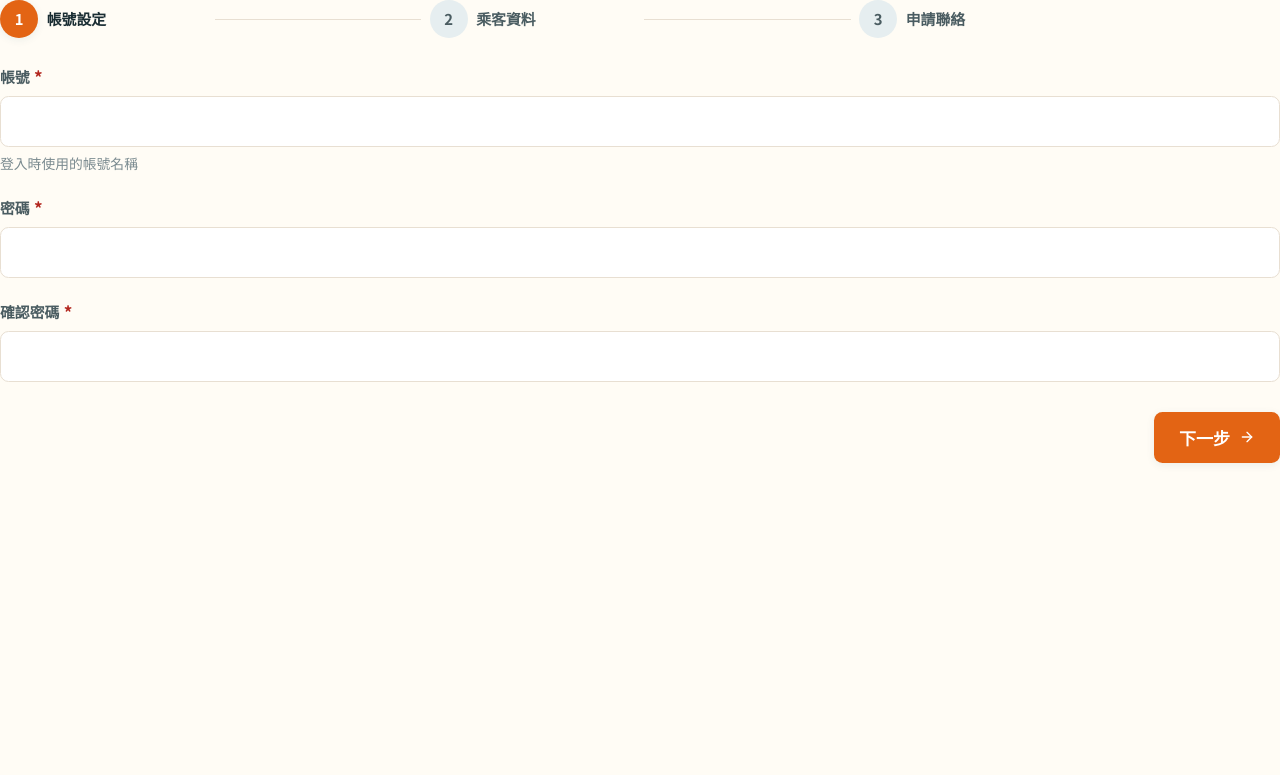
Test case: RegisterForm › advances to step 2 when step 1 is valid
The width and height of the screenshot is (1280, 775).
Type "validuser" into the field labelled "帳號" at [640, 121], box x1=0 y1=96 x2=1279 y2=147
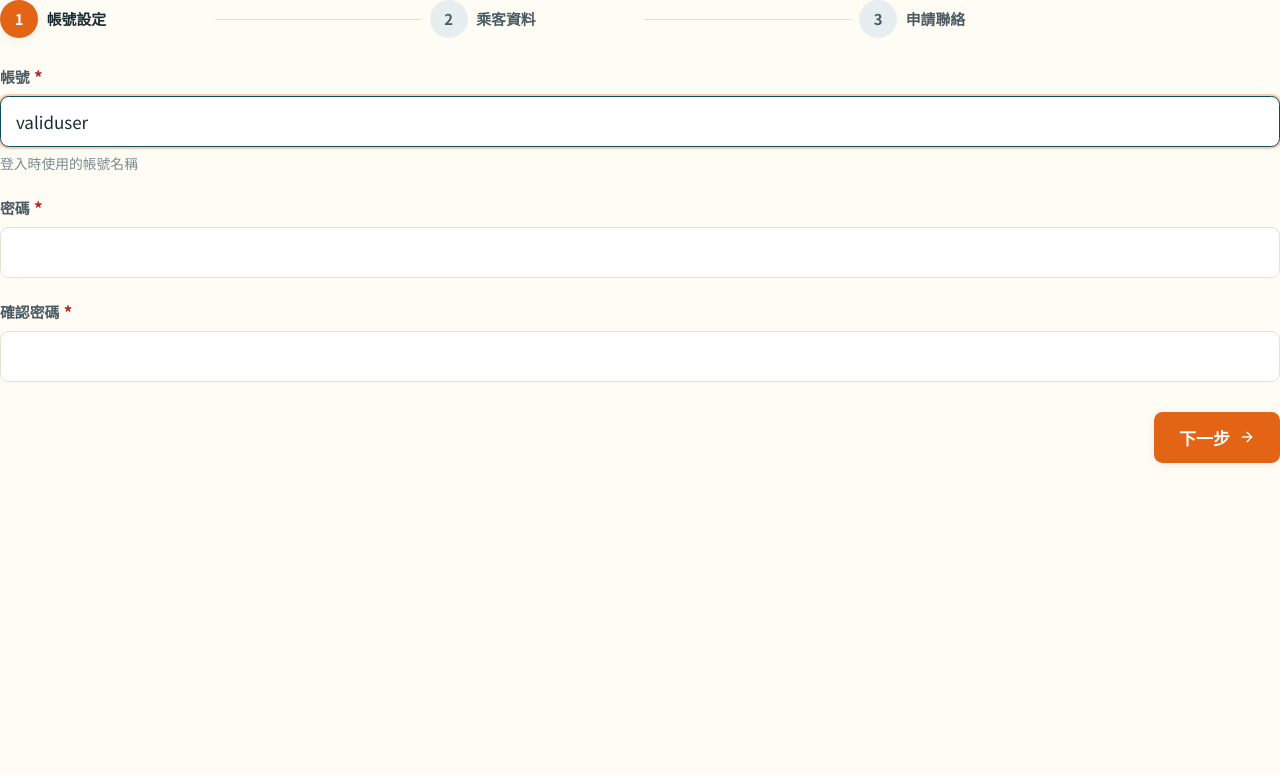
Type "password123" into the password field labelled "密碼" at [640, 252], box x1=0 y1=227 x2=1279 y2=278
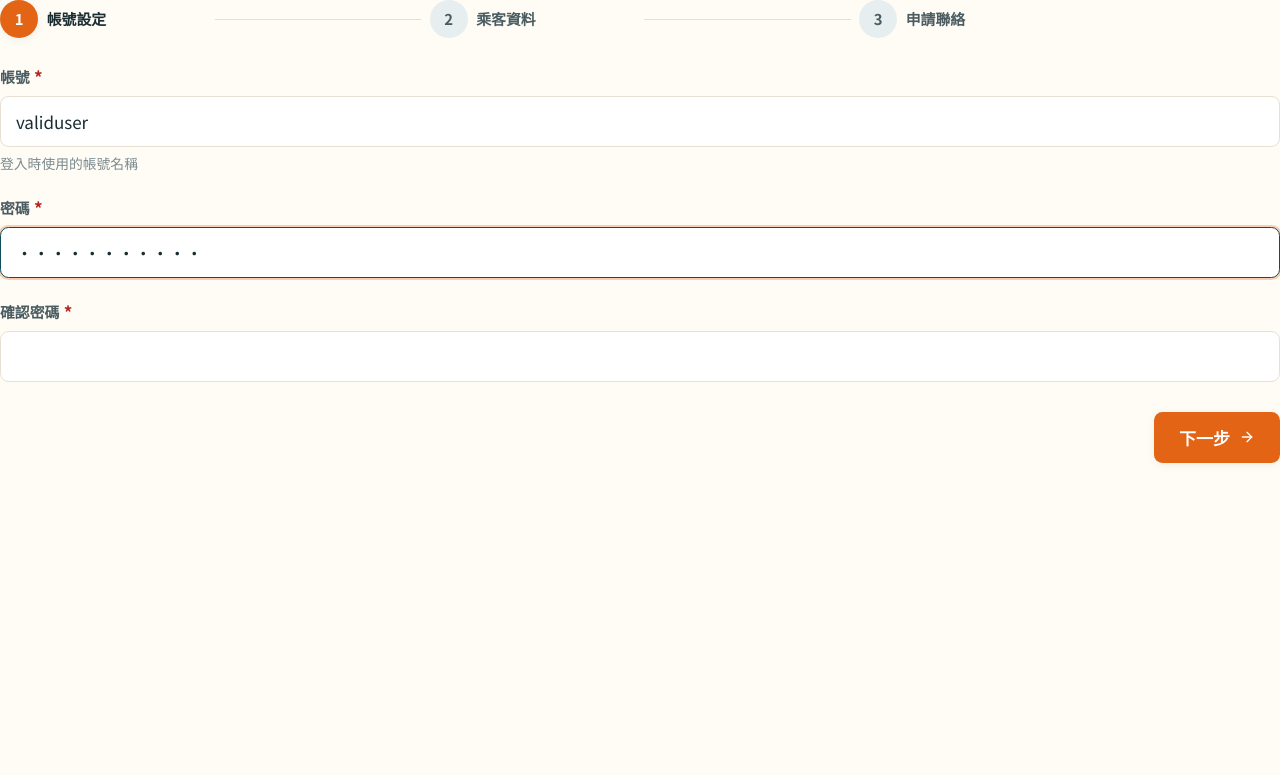
Type "password123" into the password field labelled "確認密碼" at [640, 356], box x1=0 y1=331 x2=1279 y2=382
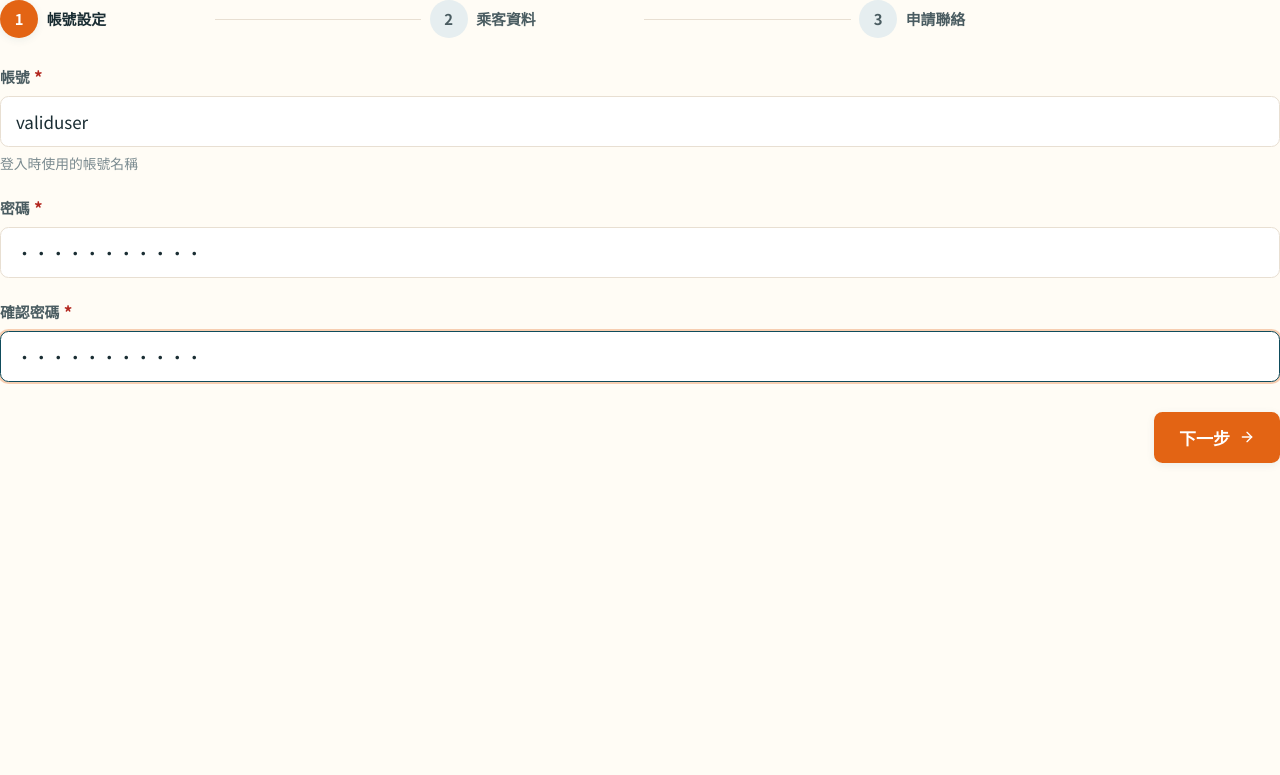
Click the button "下一步" at [1217, 437], box x1=1154 y1=412 x2=1279 y2=463
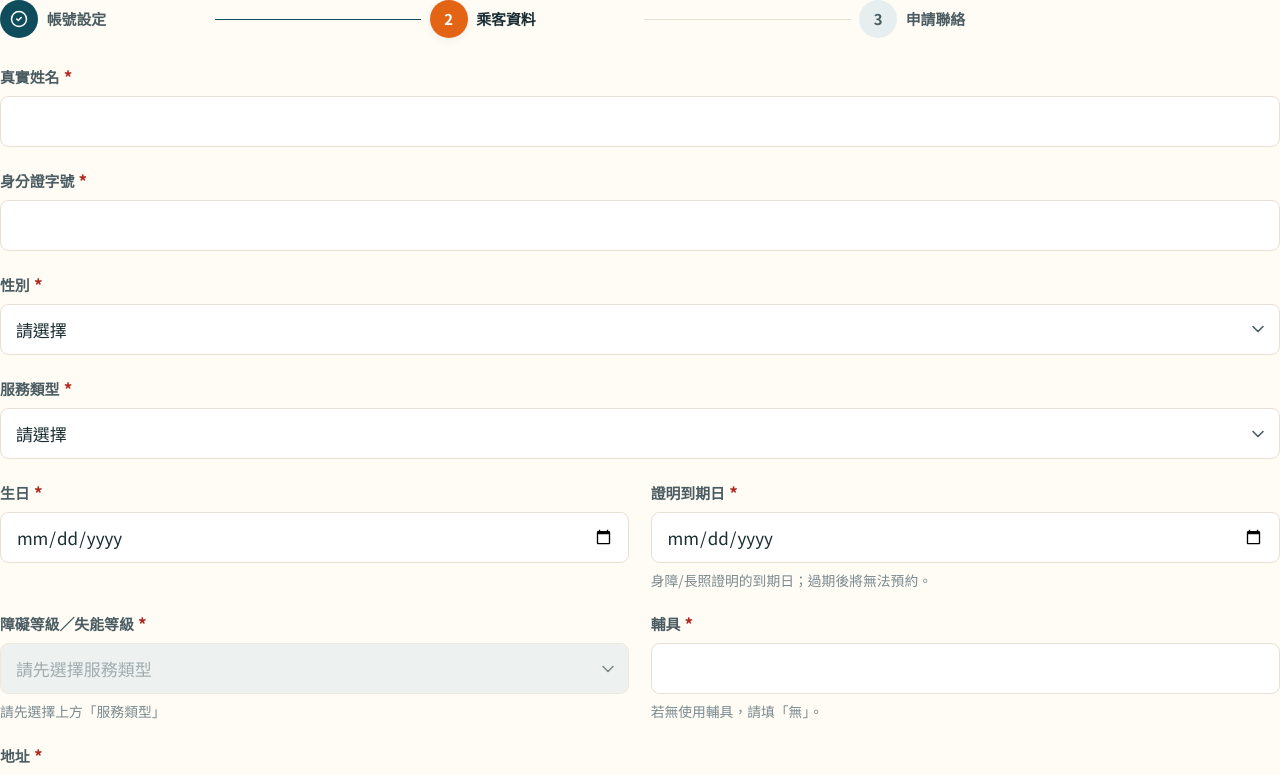
Check: the field labelled "真實姓名" is shown, box x1=0 y1=96 x2=1279 y2=147
